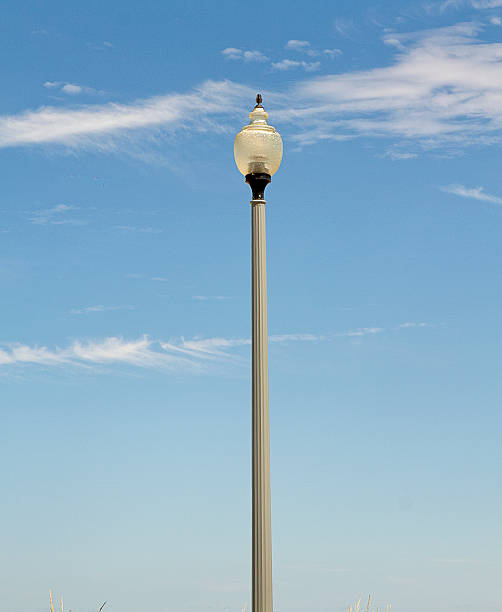light_pole: (244, 202, 280, 608)
